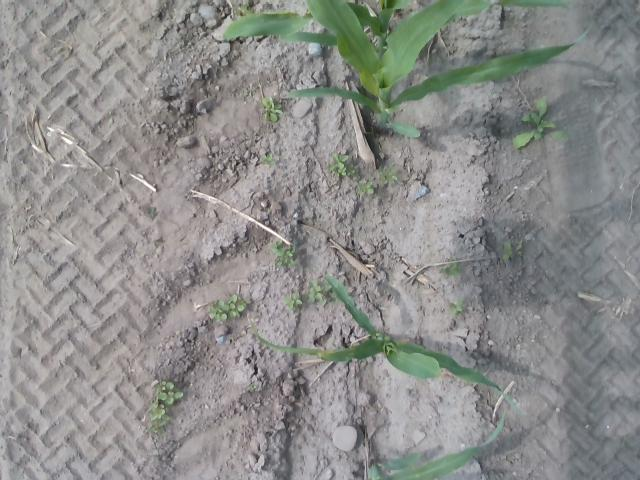Maize: (222, 0, 594, 140), (249, 272, 522, 418), (367, 412, 507, 480)
Weeds: (513, 97, 570, 149), (208, 292, 245, 326), (142, 402, 172, 434), (272, 239, 297, 272), (329, 150, 356, 180), (153, 380, 186, 404), (304, 281, 332, 306), (502, 235, 528, 261), (258, 98, 285, 123), (285, 292, 304, 314), (257, 150, 278, 168), (356, 180, 377, 198), (441, 262, 464, 278), (450, 296, 466, 318), (382, 170, 400, 187), (243, 382, 261, 396)
